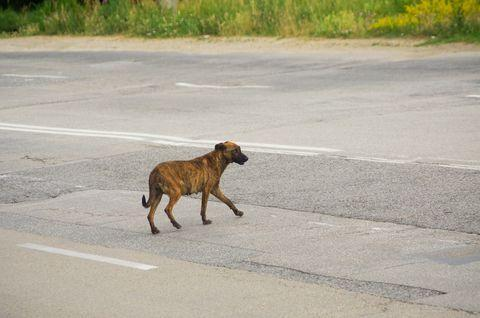normal_dogs: (132, 140, 264, 234)
